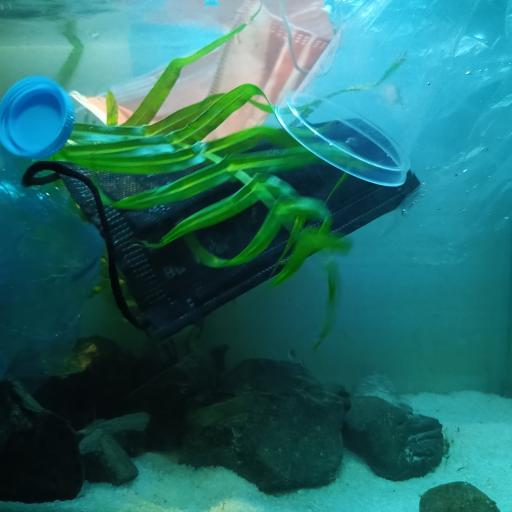bottle_cap: (0, 75, 75, 160)
mask: (21, 118, 424, 342), (66, 0, 334, 152)
plastic_bag: (340, 0, 512, 263)
plastic_cup: (281, 0, 476, 186)
